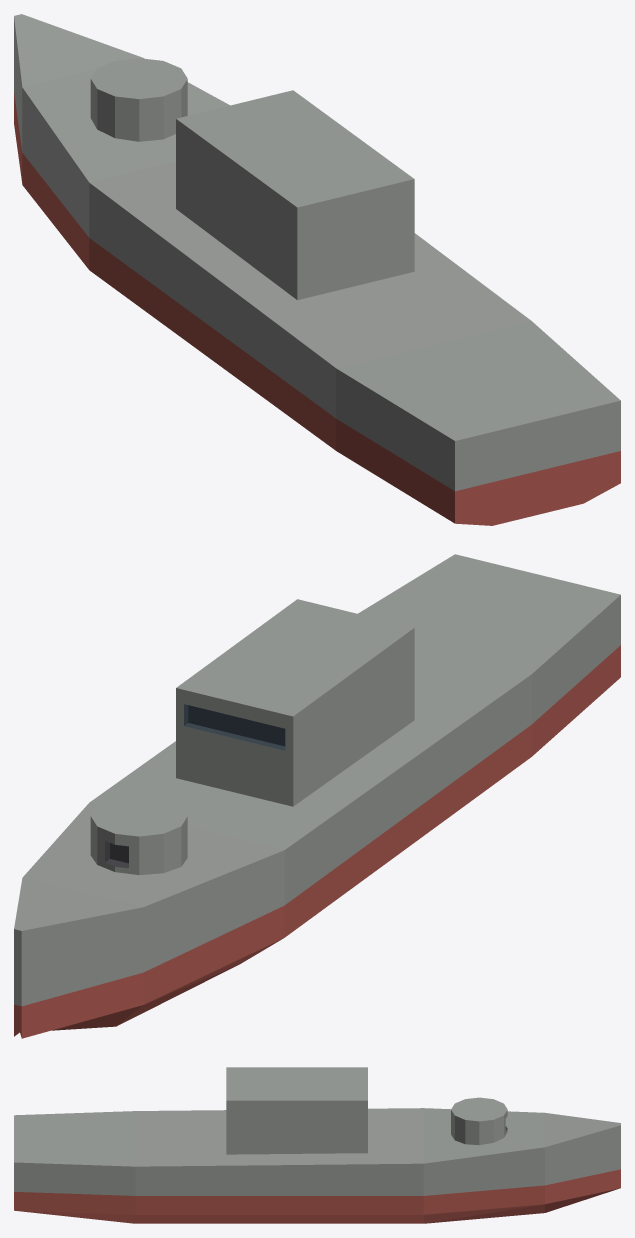
File: gunboat_lod1.glb
3 views of the same model, one above another, from view 1: azimuth 30°, elevation 25°; view 2: azimuth 150°, elevation 25°; view 3: azimuth 270°, elevation 25° (orthographic). The views are drawn at different scales.
Visible parts, largest first — view 1: gunboat_lod1; view 2: gunboat_lod1; view 3: gunboat_lod1.
Boxes of the visible parts, left/top/right/bottom form: gunboat_lod1: left=14, top=14, right=620, bottom=525; gunboat_lod1: left=14, top=554, right=620, bottom=1038; gunboat_lod1: left=14, top=1067, right=620, bottom=1223.
Bounding box in the file's own units: 6.5 × 6.8 × 30.
